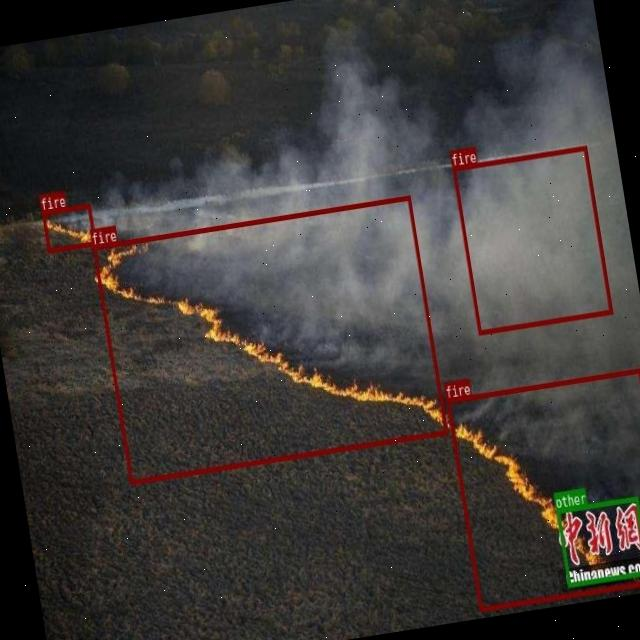fire: (91, 196, 448, 484), (446, 367, 640, 611), (452, 146, 612, 334), (42, 202, 96, 252)
